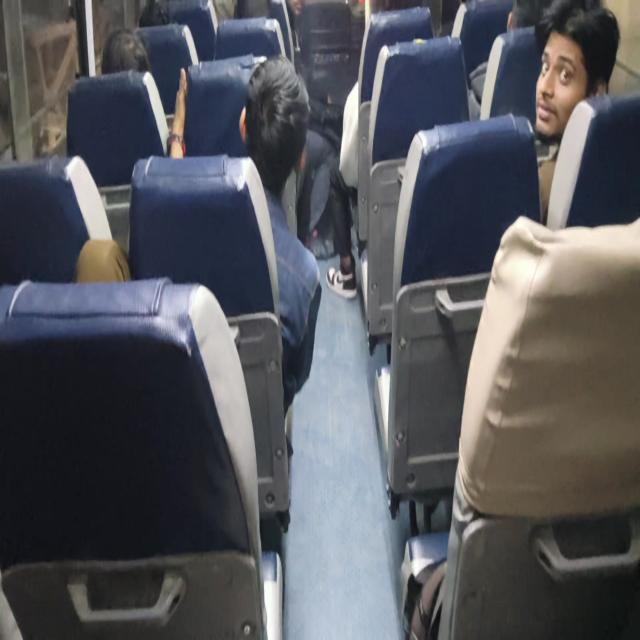person: (241, 53, 296, 170), (540, 19, 588, 134), (102, 28, 164, 89), (499, 0, 551, 54), (119, 0, 184, 42)
